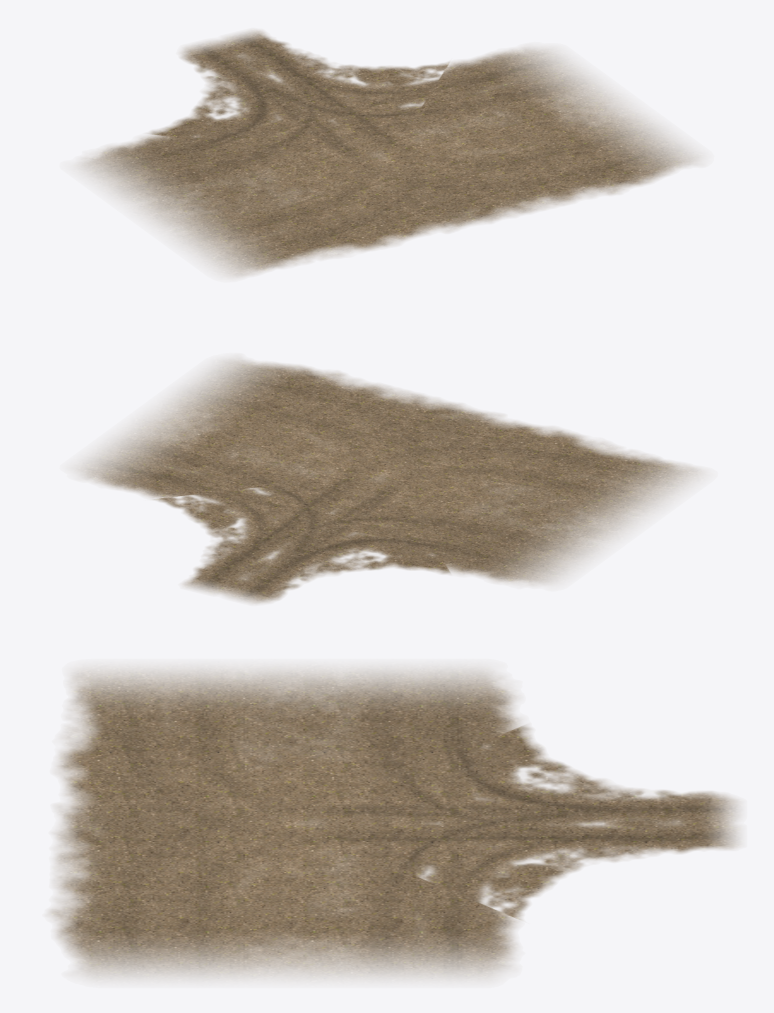
Rendered from road_tee_main_drive.glb.
3 views of the same model, one above another, from view 1: azimuth 30°, elevation 25°; view 2: azimuth 150°, elevation 25°; view 3: azimuth 270°, elevation 25° (orthographic). The views are drawn at different scales.
Parts seen in each view (by area): view 1: road_tee_main_drive; view 2: road_tee_main_drive; view 3: road_tee_main_drive.
Part boxes in pixels (x1,y1,x2,y2): road_tee_main_drive: (78, 30, 698, 276); road_tee_main_drive: (76, 359, 701, 603); road_tee_main_drive: (49, 668, 738, 978).
Bounding box in the file's own units: 19.38 × 0 × 17.44.
1 material, 1 textured.
